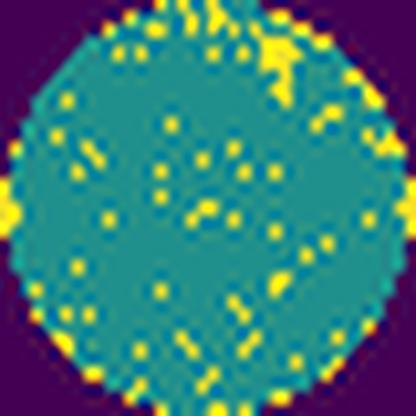Loc: (259, 35, 305, 108)
